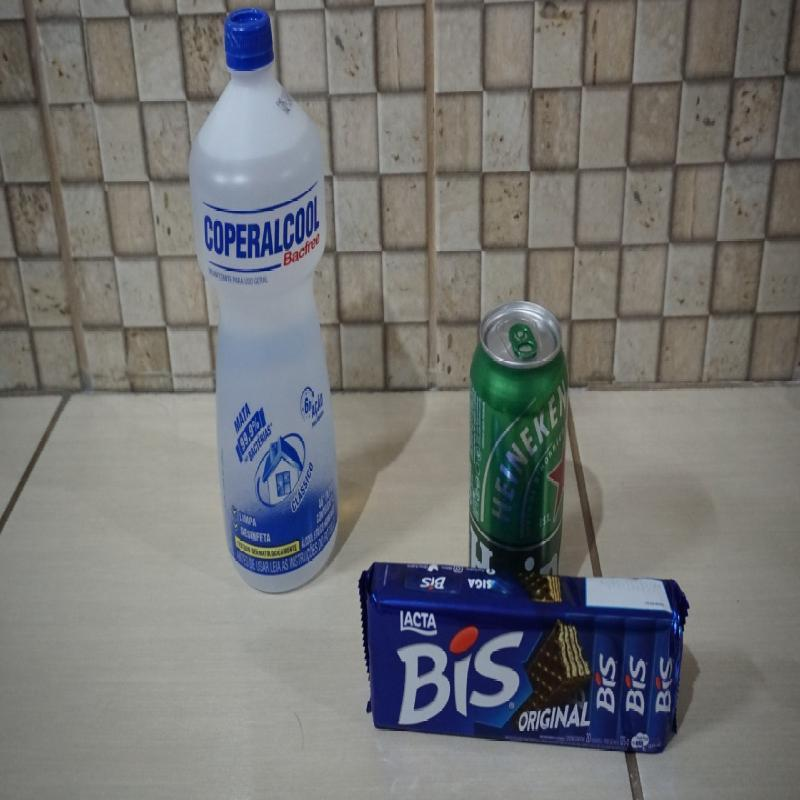Alcohol Bottle: (191, 8, 339, 594)
Beer can: (470, 300, 572, 569)
